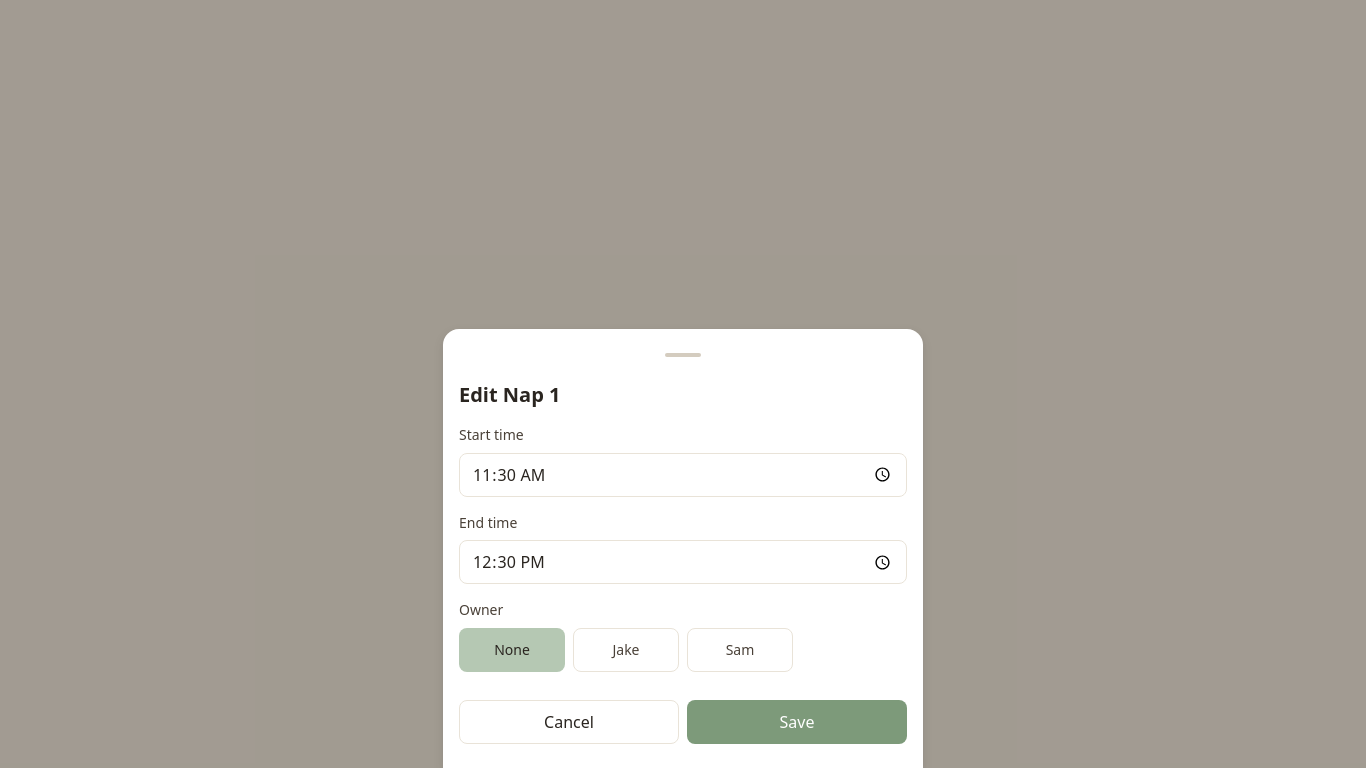
Test: EventEditDrawerV3 › flags startTime < dayWakeTime as a pre-wake error (AM/PM safeguard)
Replace the text in the time field labelled "Start time" with "00:30". click: (683, 475)
box: top-left (459, 453), bottom-right (907, 497)
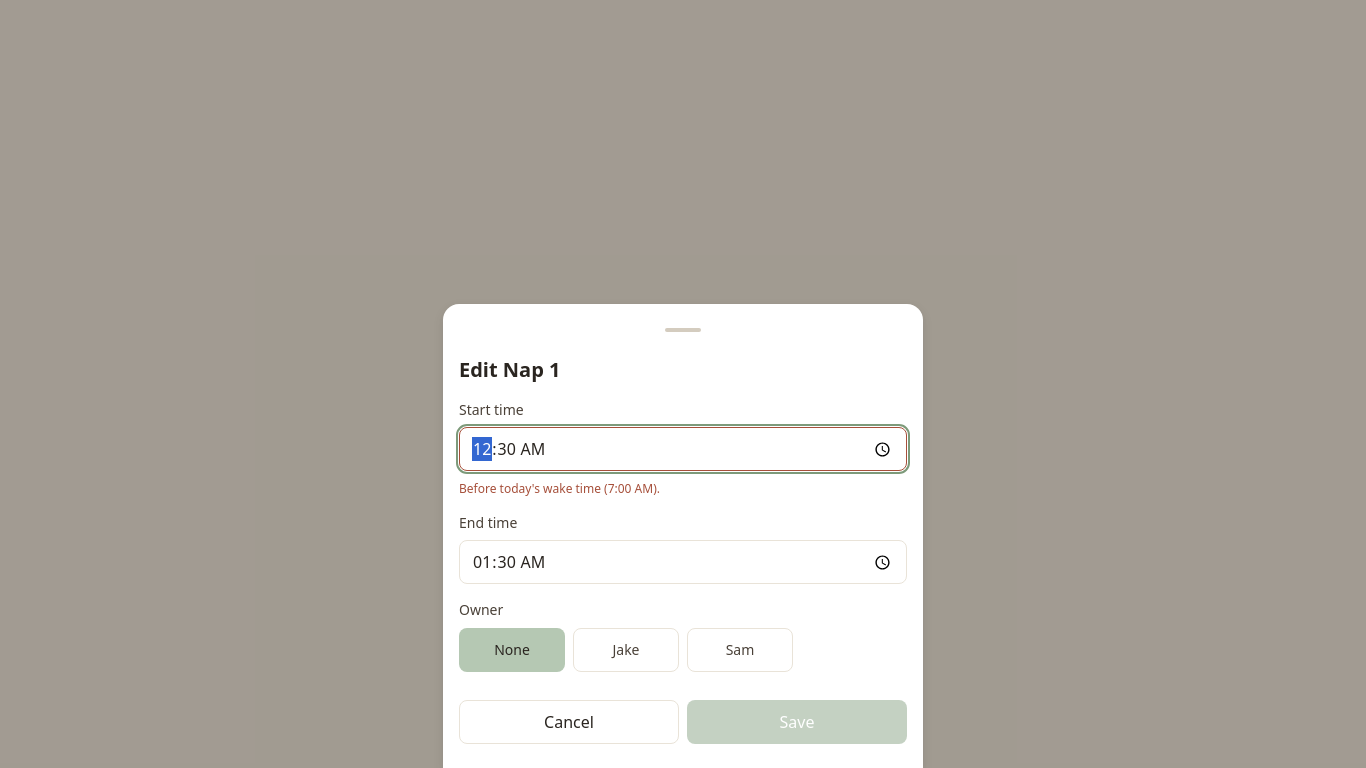
Now the button "Save" is disabled, box top-left (687, 700), bottom-right (907, 744)
Now the message shows "Before today's wake time", box top-left (459, 480), bottom-right (660, 497)
